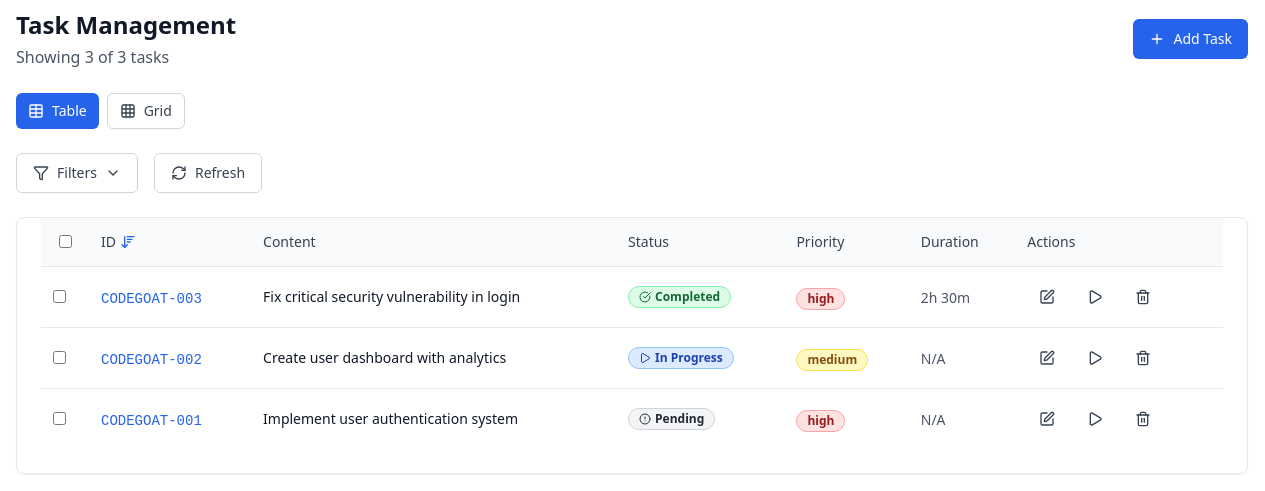
TaskManagement › Task Selection › selects individual tasks
Expected: the text "CODEGOAT-001" is shown, left=101, top=413, right=202, bottom=429
Click the checkbox next to "CODEGOAT-003": coordinates (60, 296) left=53, top=290, right=66, bottom=303
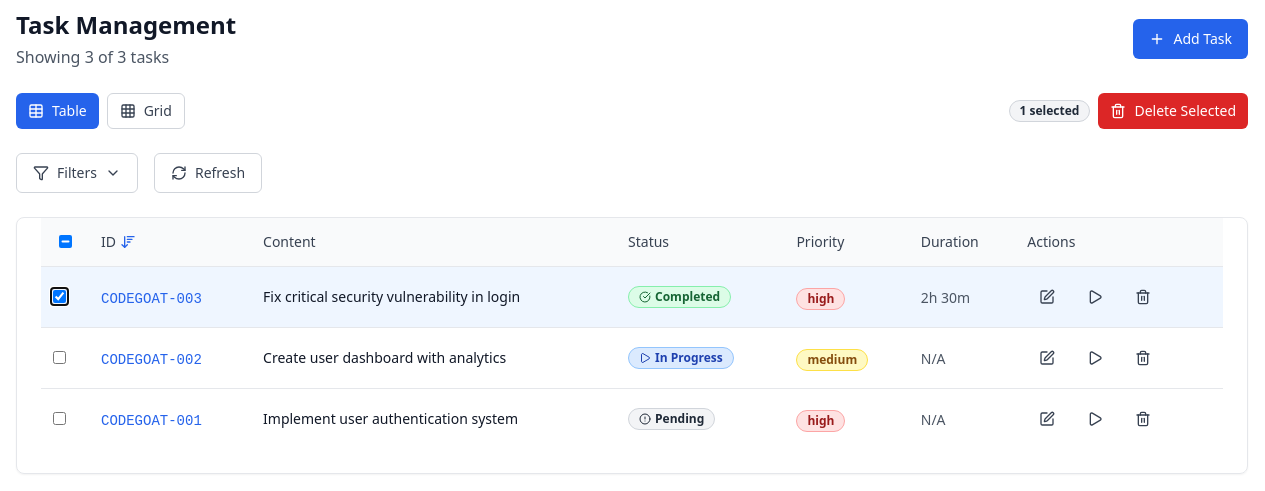
Expected: the text "1 selected" is shown, left=1008, top=100, right=1090, bottom=122
Expected: the button "Delete Selected" is shown, left=1098, top=93, right=1248, bottom=129
